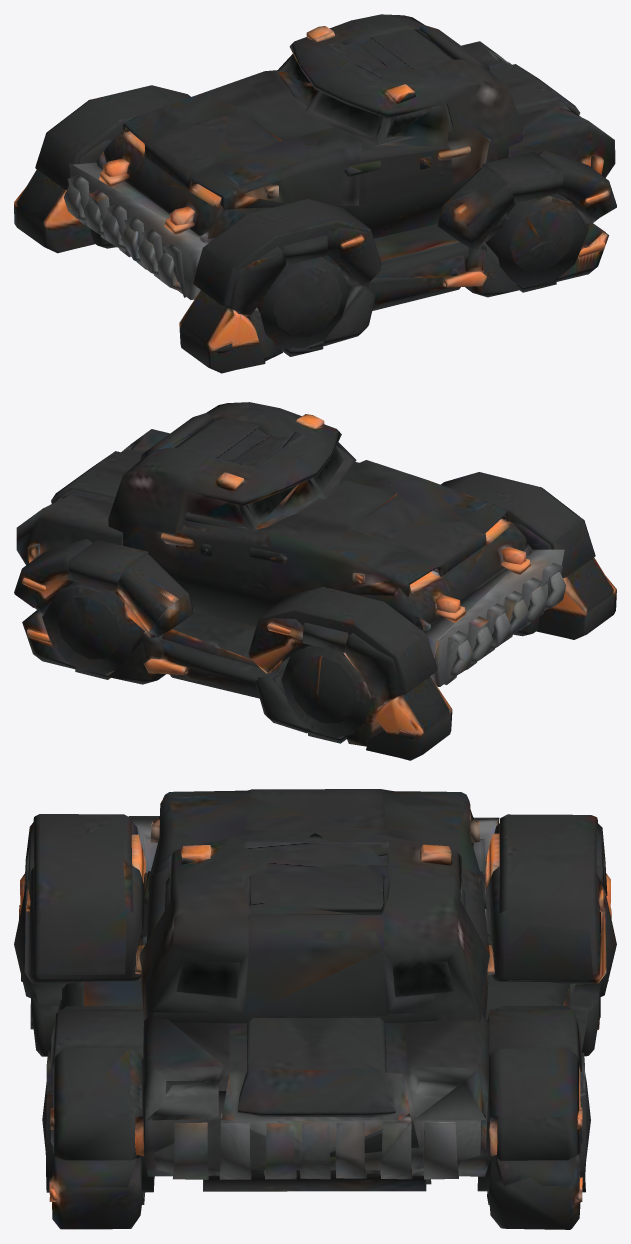
The model's file is ram.glb.
3 renders of one model, top to bottom at view 1: azimuth 30°, elevation 25°; view 2: azimuth 150°, elevation 25°; view 3: azimuth 270°, elevation 25°, orthographic. The views are drawn at different scales.
Size of the model in its own units: 1 by 0.404 by 0.7866.
1 material, 1 textured.
